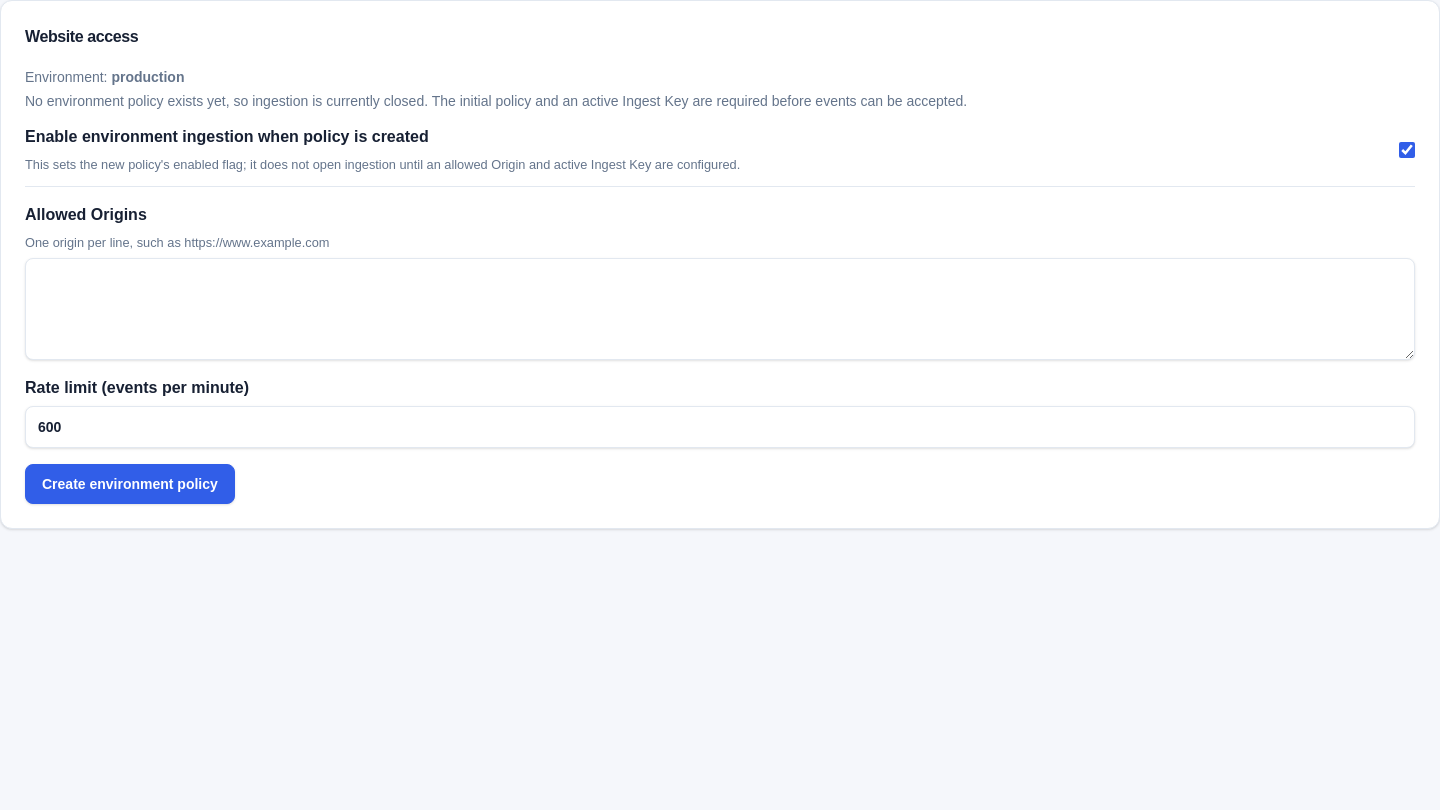
Test: EnvironmentPolicyPresenter flow › saves a new policy, reports success, and refreshes the route
Click the checkbox named "Enable environment ingestion when policy is created".
click(1407, 150)  # box [1399, 142, 1415, 158]
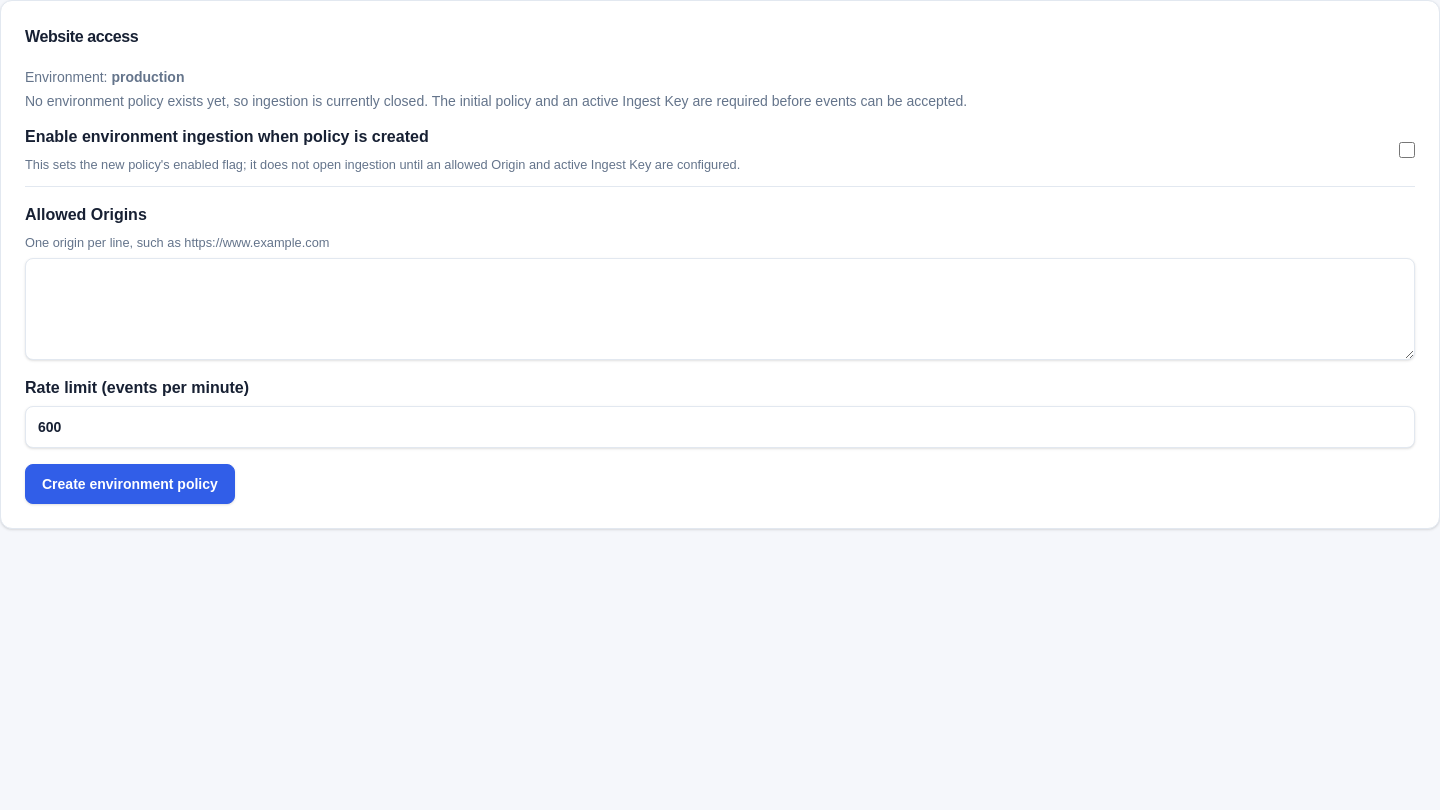
Click the button "Create environment policy".
click(130, 484)  # box [25, 464, 235, 504]
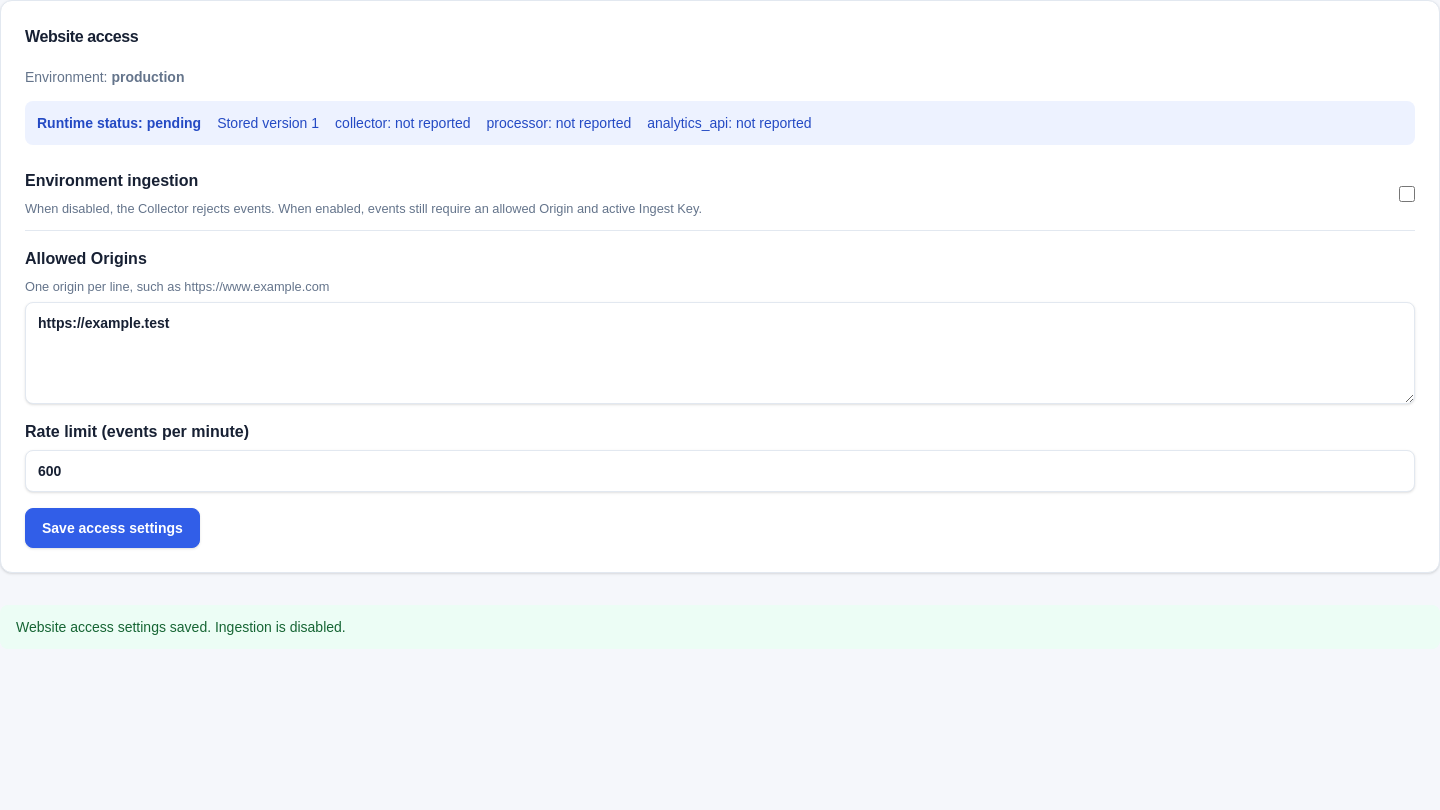
Check: the text "Website access settings saved. Ingestion is disabled." is shown, box [0, 605, 1439, 649]
